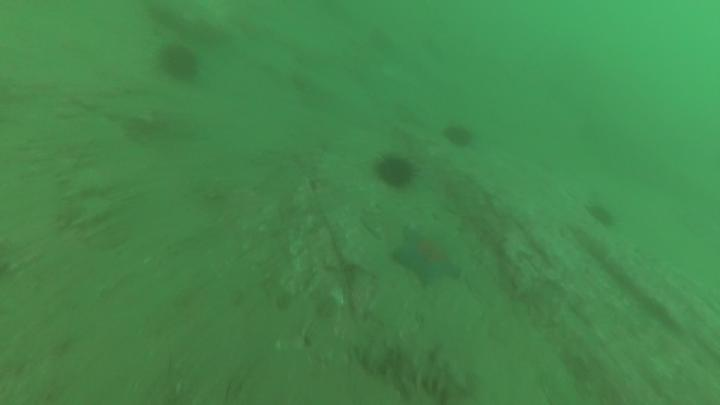echinus: (161, 46, 202, 81), (378, 159, 415, 187), (589, 205, 615, 227), (446, 126, 472, 147)
starfish: (397, 233, 464, 287)
